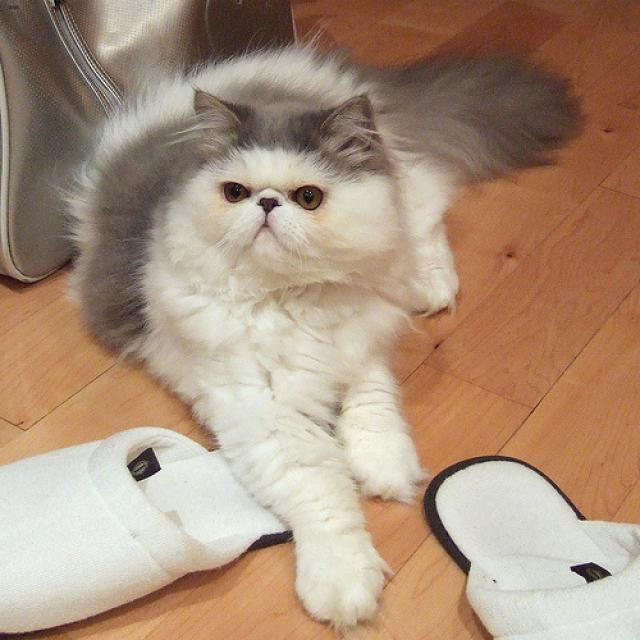Persian: (186, 89, 400, 276)
